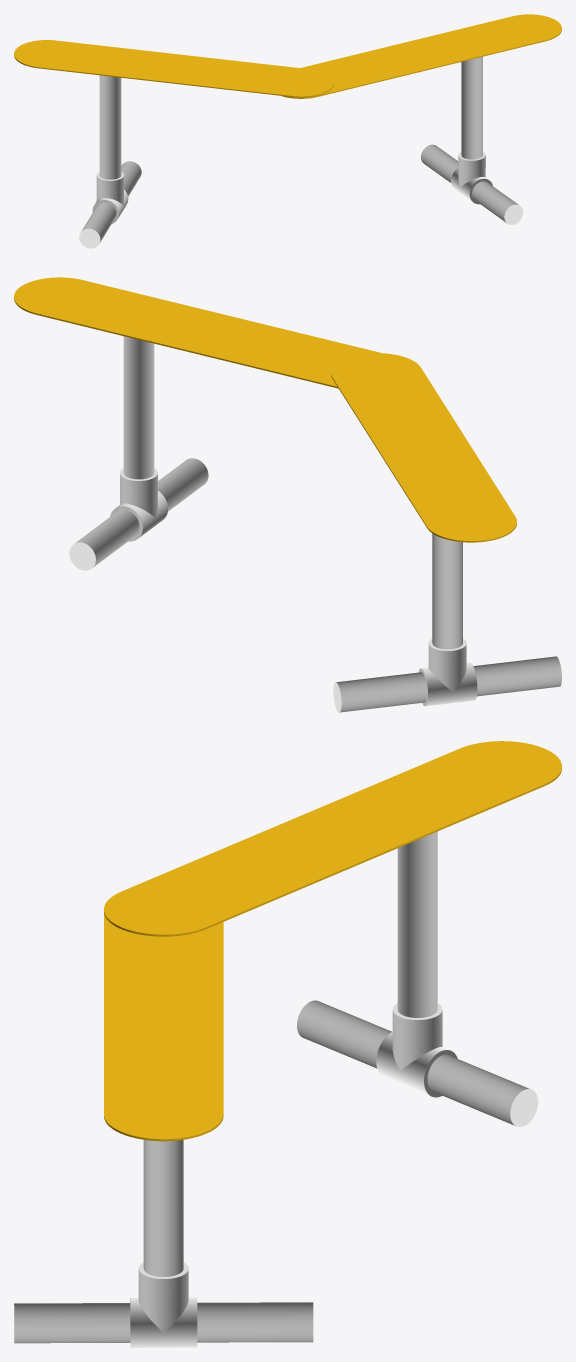
File: path_marker_45ccw.dae
The picture shows the model from 3 angles, top to bottom: view 1: azimuth 30°, elevation 25°; view 2: azimuth 150°, elevation 25°; view 3: azimuth 270°, elevation 25°; orthographic projection. The views are drawn at different scales.
Visible parts, largest first — view 1: to_marker, from_marker, to_leg, from_leg, from_foot, to_foot, from_T_joint, to_T_joint; view 2: to_marker, from_marker, to_foot, from_leg, from_foot, to_leg, to_T_joint, from_T_joint; view 3: to_marker, from_marker, from_foot, to_foot, to_leg, from_leg, from_T_joint, to_T_joint.
Part boxes in pixels (box(x1,y1,x2,y2)): to_marker: box(14, 40, 333, 97); from_marker: box(282, 14, 561, 98); to_leg: box(99, 75, 121, 179); from_leg: box(461, 56, 482, 159); from_foot: box(421, 144, 523, 224); to_foot: box(79, 161, 141, 248); from_T_joint: box(451, 151, 492, 204); to_T_joint: box(92, 172, 128, 223); to_marker: box(331, 353, 516, 542); from_marker: box(14, 277, 380, 388); to_foot: box(333, 656, 561, 712); from_leg: box(123, 336, 154, 479); from_foot: box(69, 458, 208, 570); to_leg: box(432, 533, 462, 649); to_T_joint: box(418, 638, 477, 706); from_T_joint: box(110, 468, 167, 541); to_marker: box(104, 741, 561, 936); from_marker: box(104, 914, 223, 1141); from_foot: box(14, 1302, 313, 1343); to_foot: box(297, 1000, 538, 1126); to_leg: box(397, 831, 437, 1017); from_leg: box(143, 1140, 183, 1276); from_T_joint: box(130, 1262, 197, 1347); to_T_joint: box(376, 1003, 457, 1097).
Size of the model in its own units: 1.19 by 0.6979 by 0.3994.
